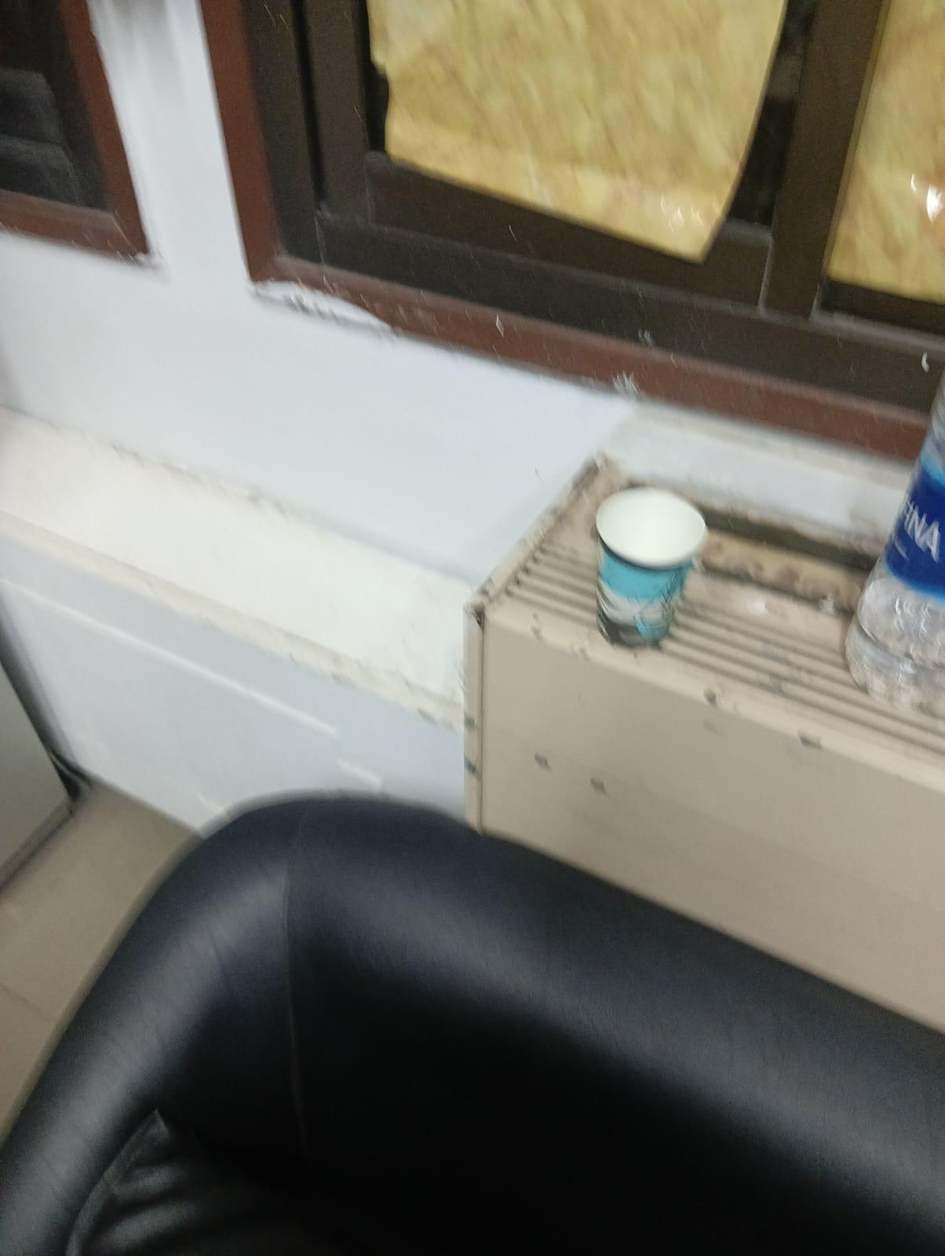cup: (596, 488, 705, 644)
